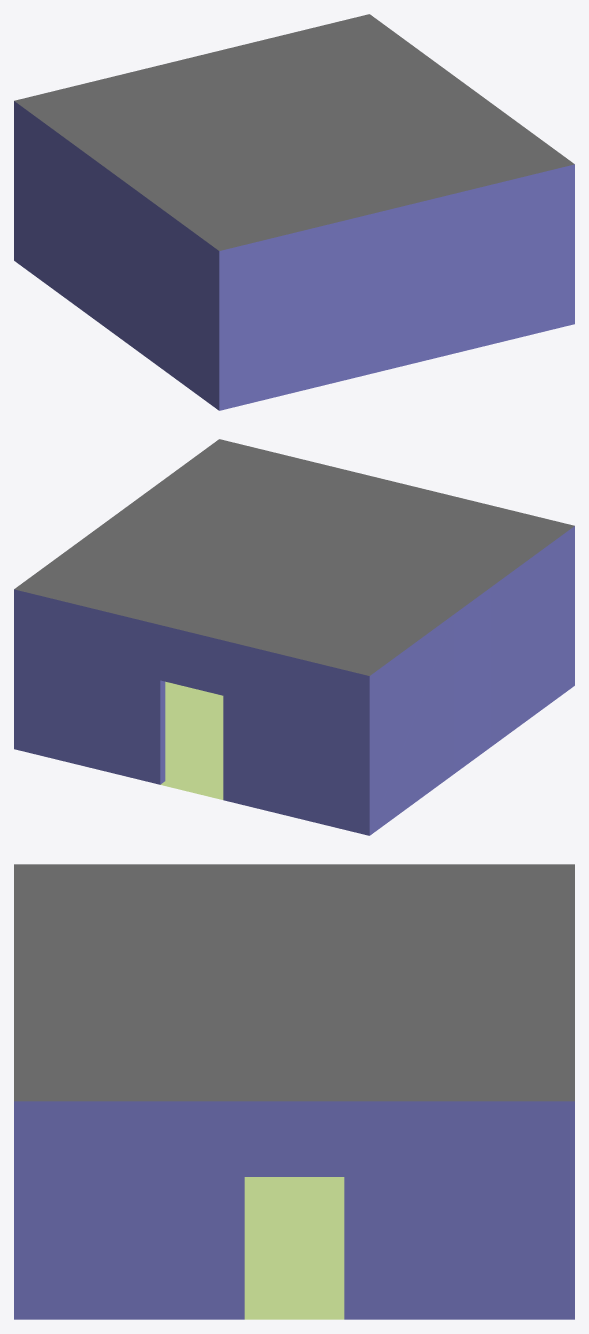
The model's file is RoomRight.fbx.
The picture shows the model from 3 angles, top to bottom: view 1: azimuth 30°, elevation 25°; view 2: azimuth 150°, elevation 25°; view 3: azimuth 270°, elevation 25°; orthographic projection. The views are drawn at different scales.
Parts seen in each view (by area): view 1: RoomRight; view 2: RoomRight; view 3: RoomRight.
Part boxes in pixels (x1=…): RoomRight: x1=14, y1=14, x2=574, y2=410; RoomRight: x1=14, y1=439, x2=574, y2=835; RoomRight: x1=14, y1=864, x2=574, y2=1319.
Bounding box in the file's own units: 267 × 114 × 267.
